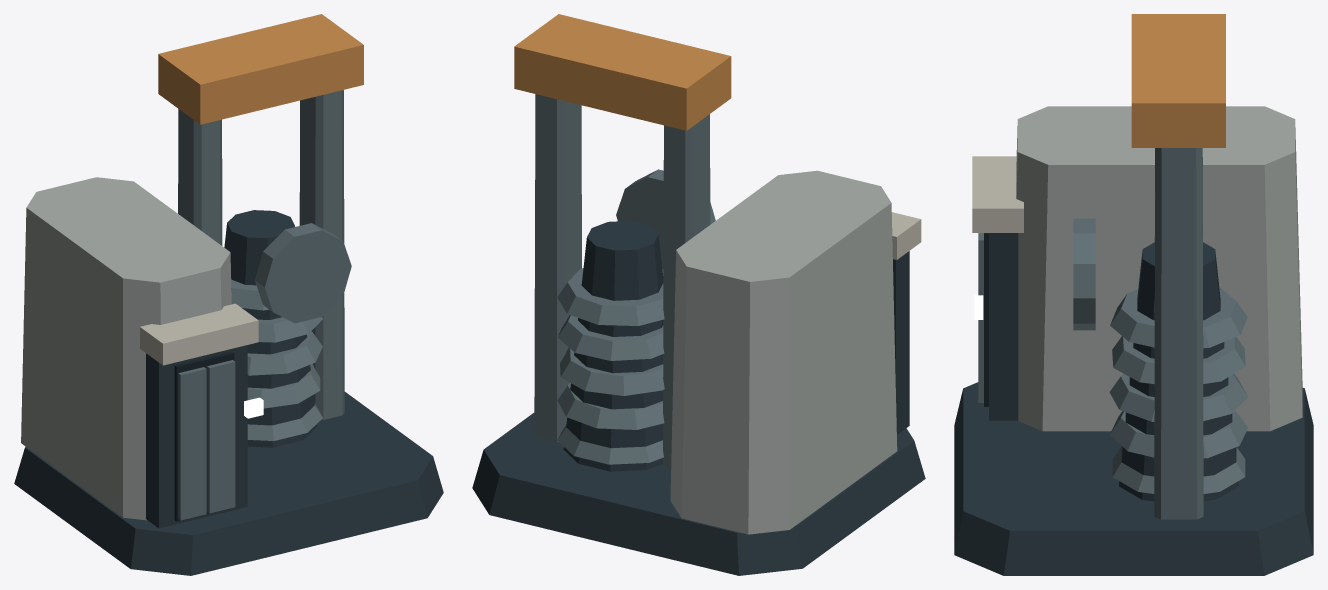
File: mine_t1.glb
3 renders of one model, left to right at view 1: azimuth 30°, elevation 25°; view 2: azimuth 150°, elevation 25°; view 3: azimuth 270°, elevation 25°, orthographic. The views are drawn at different scales.
Visible parts, largest first — view 1: body, part_rotor; view 2: body, part_rotor; view 3: body, part_rotor.
Boxes of the visible parts, <box> form: body: <box>14,14,443,575</box>; part_rotor: <box>255,223,351,323</box>; body: <box>472,14,925,575</box>; part_rotor: <box>616,169,715,268</box>; body: <box>954,14,1313,575</box>; part_rotor: <box>1073,218,1095,330</box>.
Bounding box in the file's own units: 1.8 × 2.26 × 1.6.
